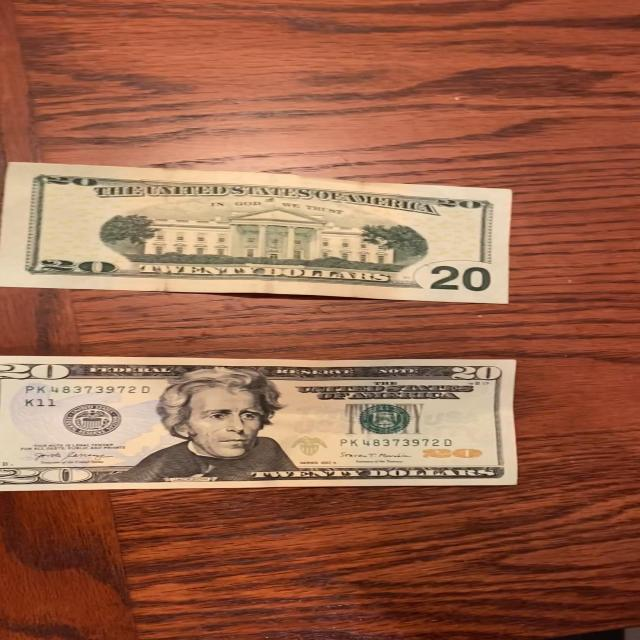20-Back: (2, 161, 520, 308)
20-Front: (0, 352, 536, 494)
